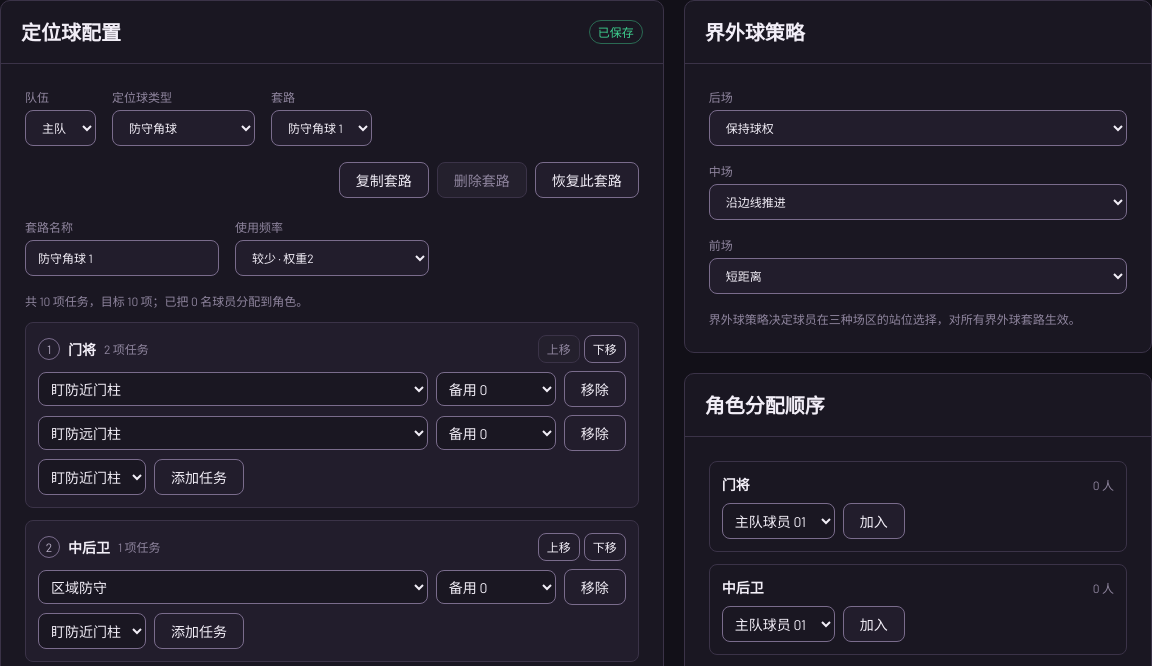
Test case: SetpiecesPage › 未保存时切换队伍需要确认
This screenshot has width=1152, height=666.
Replace the text in the field labelled "套路名称" with "改过的套路" at (122, 258), box [25,240,219,276]
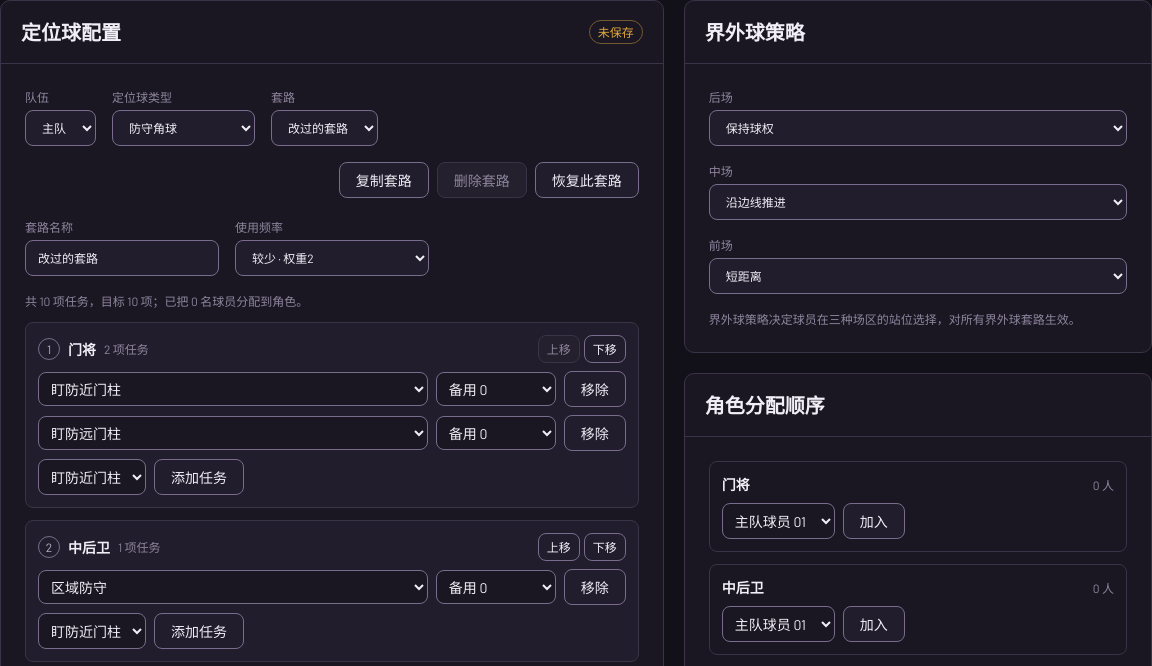
Select "客队" in the dropdown labelled "队伍" at (60, 128), box [25,110,96,146]
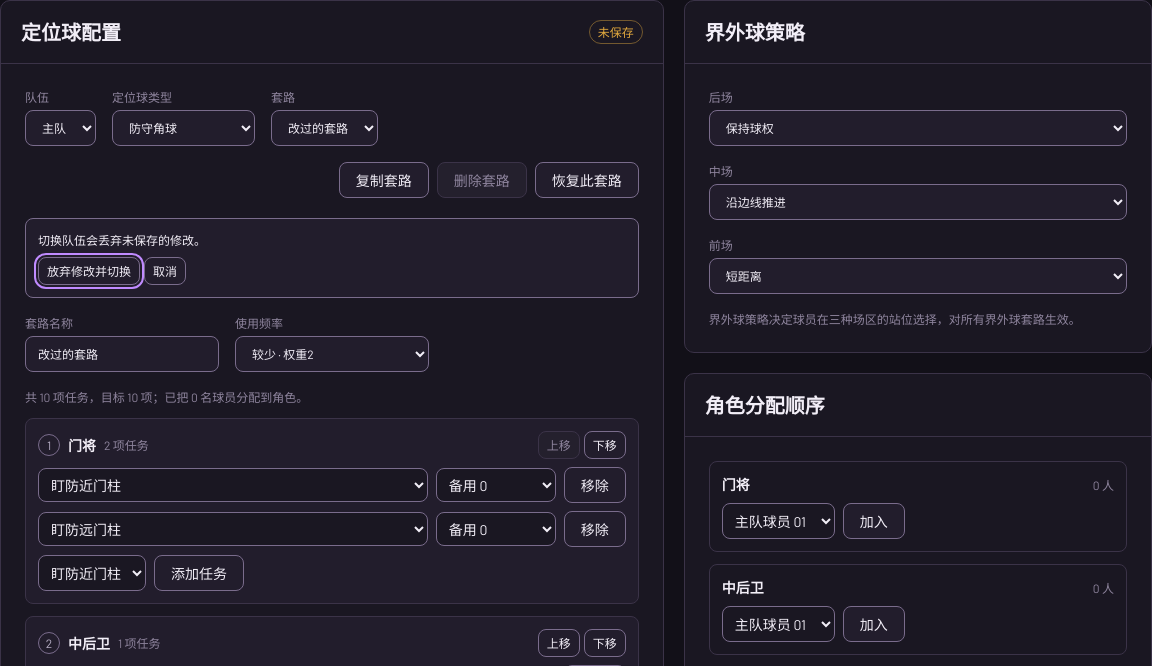
Click the button "取消" at (165, 271), box [144,257,186,285]
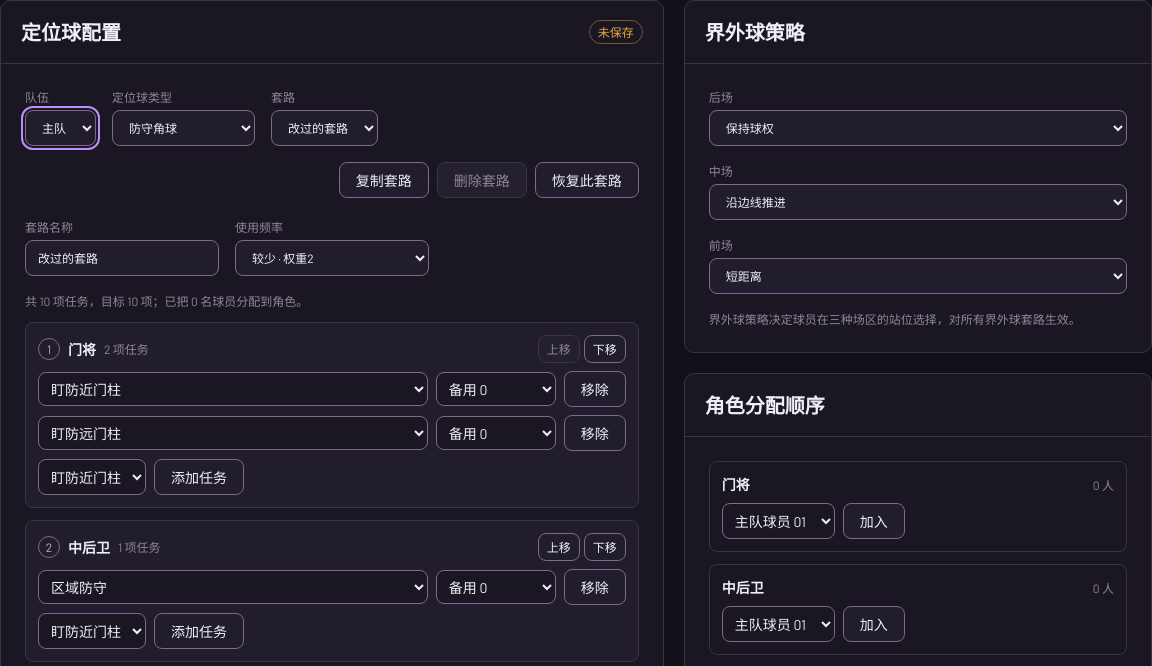
Now the dialog is gone
Select "客队" in the dropdown labelled "队伍" at (60, 128), box [25,110,96,146]
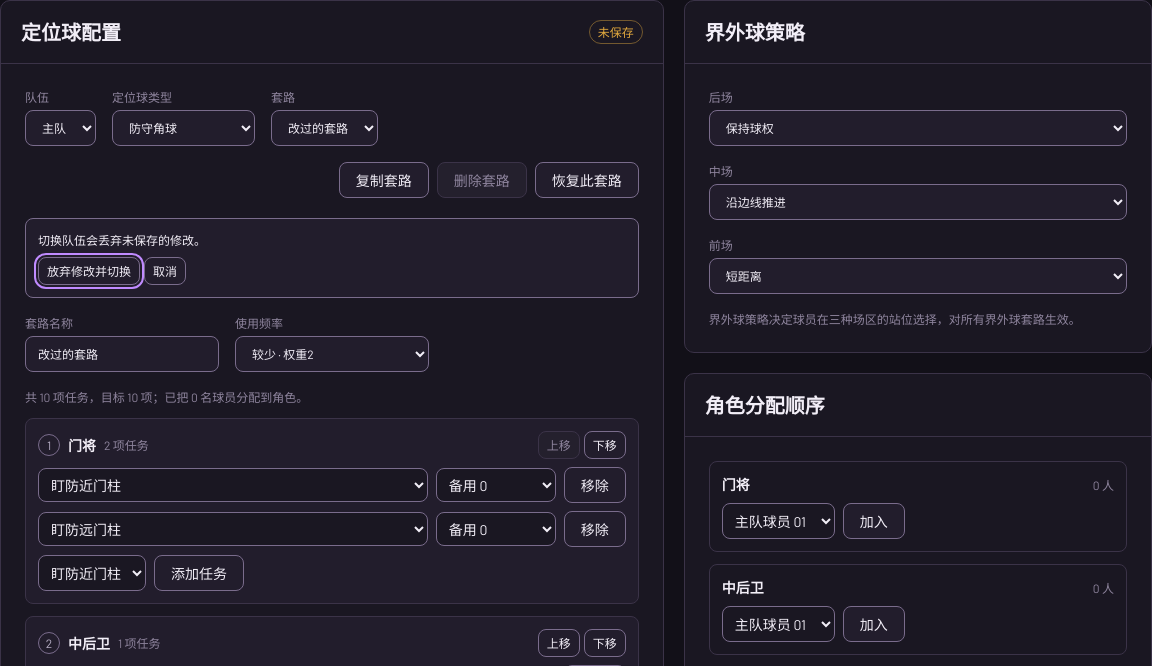
Click the button "放弃修改并切换" at (89, 271), box [38,257,140,285]
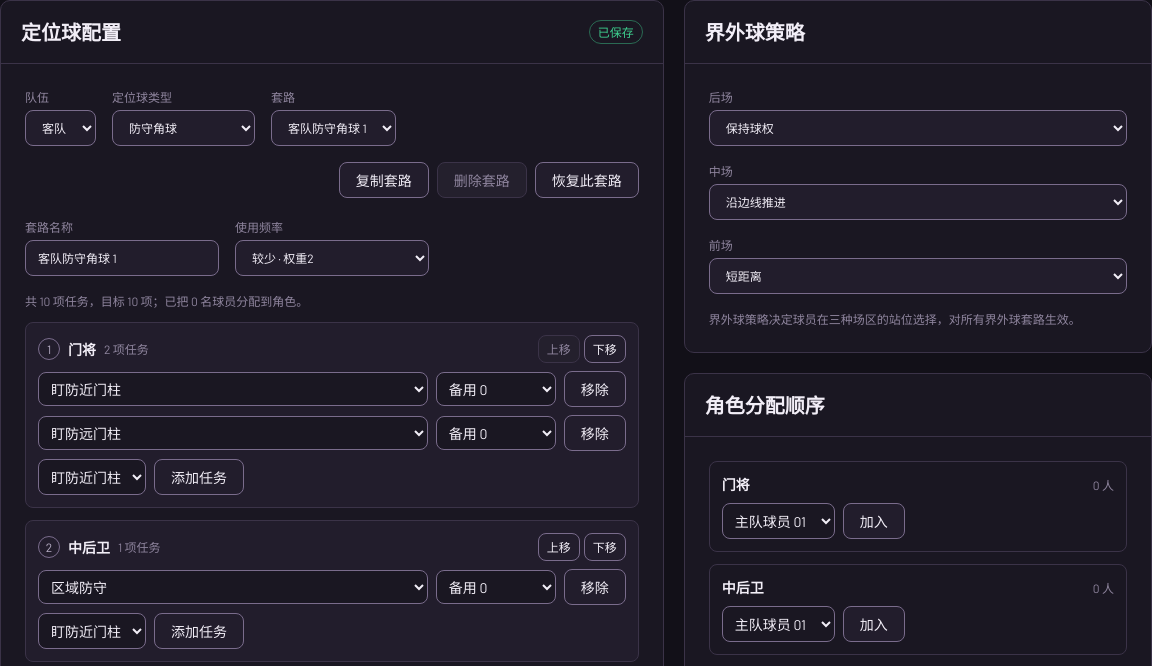
Now the field labelled "套路名称" holds "客队防守角球 1", box [25,240,219,276]
Now the dropdown labelled "队伍" shows "客队", box [25,110,96,146]
